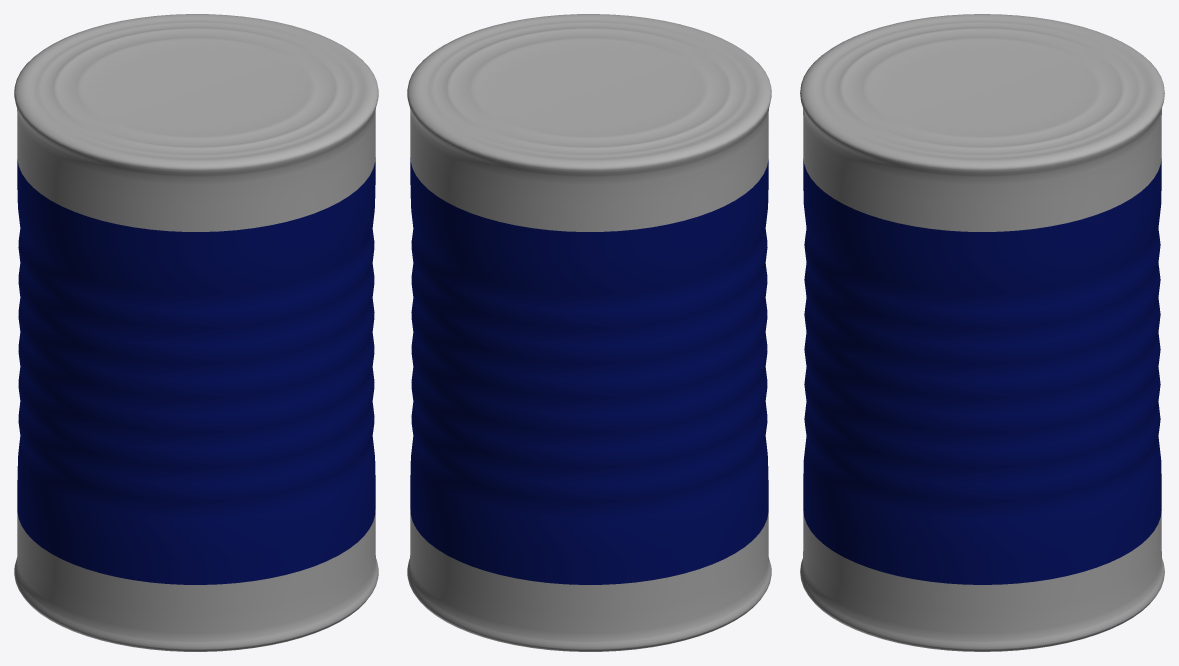
Rendered from Can3.fbx.
The picture shows the model from 3 angles, left to right: view 1: azimuth 30°, elevation 25°; view 2: azimuth 150°, elevation 25°; view 3: azimuth 270°, elevation 25°; orthographic projection.
Parts seen in each view (by area): view 1: Cylinder.002; view 2: Cylinder.002; view 3: Cylinder.002.
Part boxes in pixels (x1=…): Cylinder.002: x1=14, y1=14, x2=378, y2=651; Cylinder.002: x1=407, y1=14, x2=771, y2=651; Cylinder.002: x1=800, y1=14, x2=1164, y2=651.
Bounding box in the file's own units: 202 × 300 × 203.
